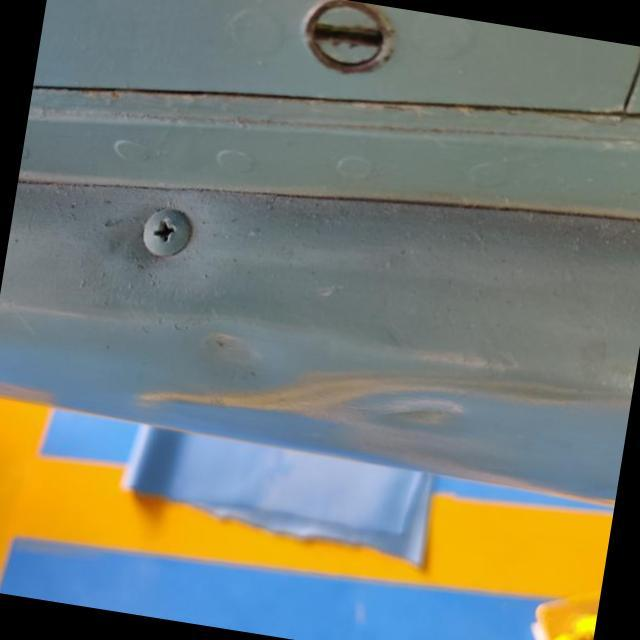Dent: (119, 290, 636, 510)
